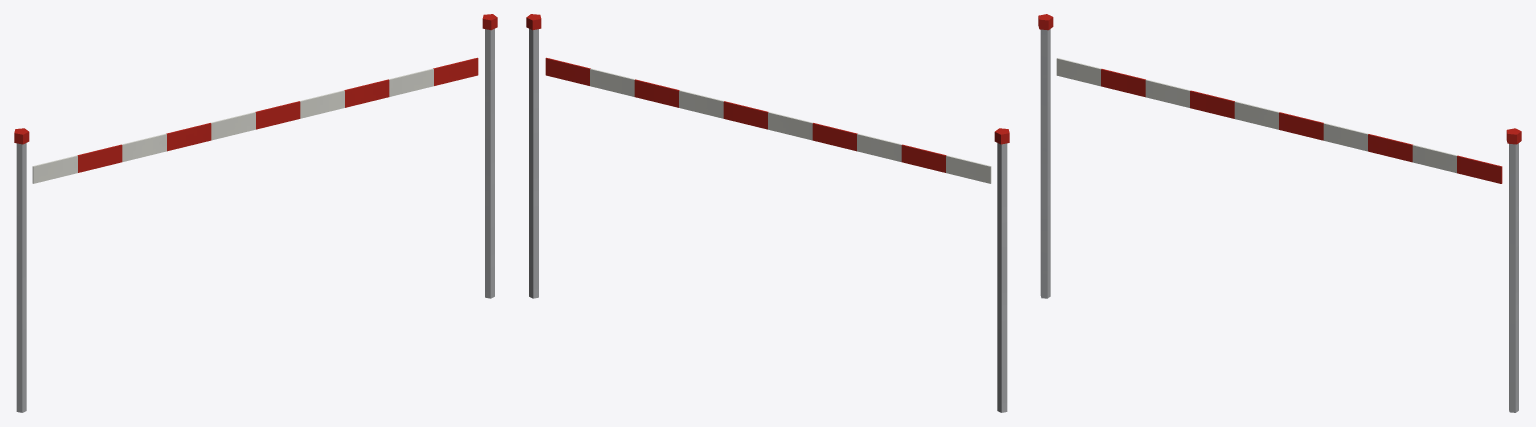
Rendered from cerca_fita.glb.
3 views of the same model, side by side, from view 1: azimuth 30°, elevation 25°; view 2: azimuth 150°, elevation 25°; view 3: azimuth 330°, elevation 25° (orthographic).
Visible parts, largest first — view 1: Inteiro; view 2: Inteiro; view 3: Inteiro.
Boxes of the visible parts, x1=… form: Inteiro: x1=14, y1=14, x2=497, y2=412; Inteiro: x1=526, y1=14, x2=1009, y2=412; Inteiro: x1=1038, y1=14, x2=1521, y2=412.
Bounding box in the file's own units: 2.05 × 1.14 × 0.0571.
Materials: 1 (1 with a texture image).
